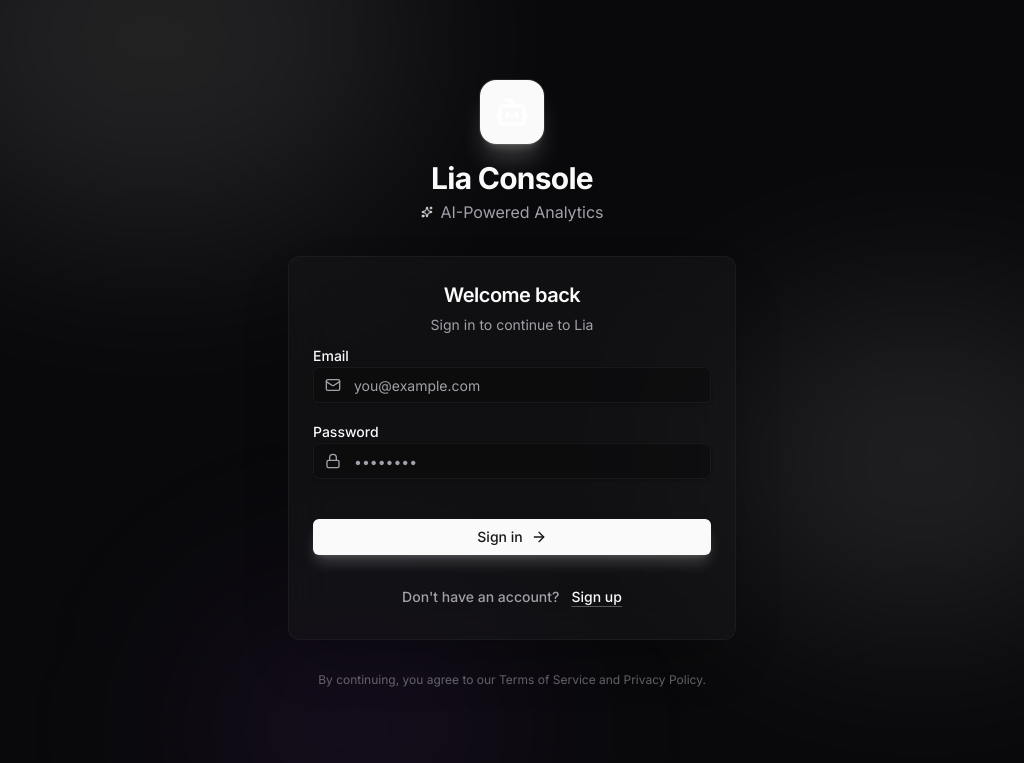
Scenario: AuthPage › Register Form Submission › validates password length - too short
Click the button "Don't have an account? Sign up" at (512, 597), box [386,579,638,615]
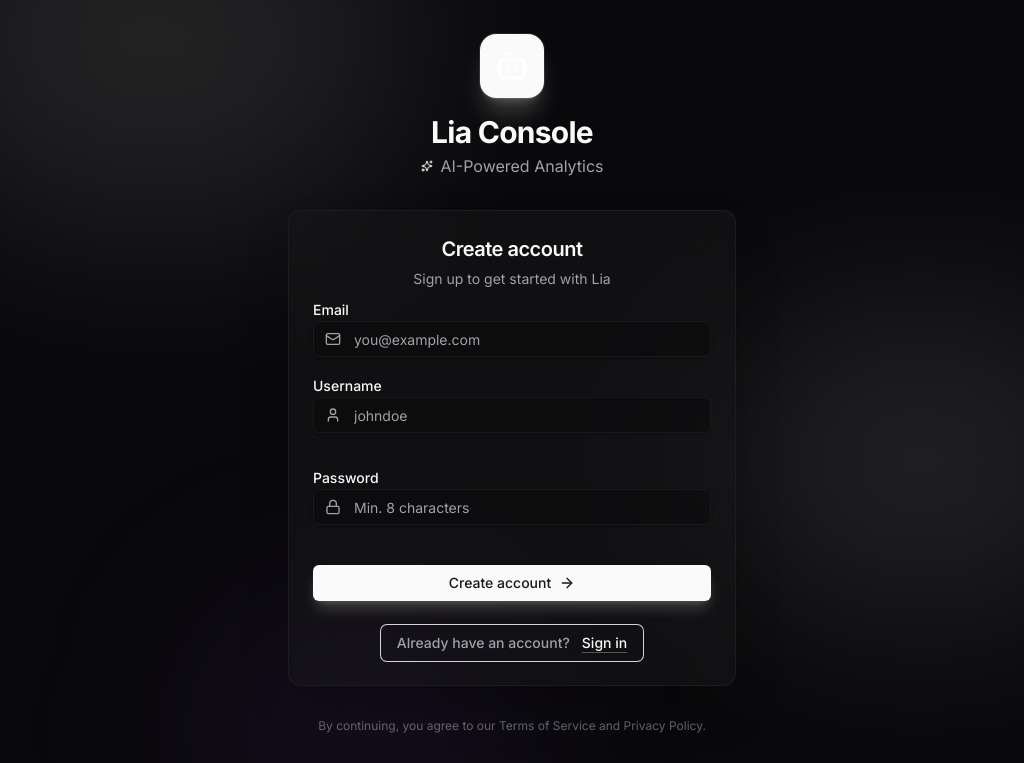
Type "new@example.com" into the field labelled "Email" at (512, 339), box [313,321,711,357]
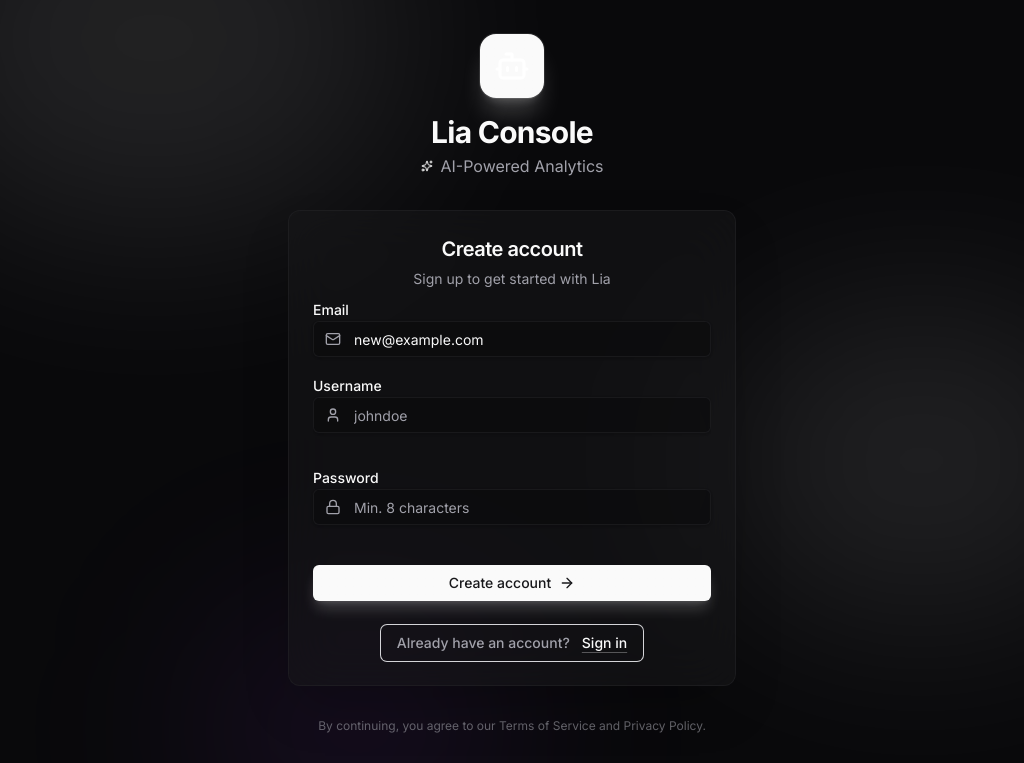
Type "newuser" into the field labelled "Username" at (512, 415), box [313,397,711,433]
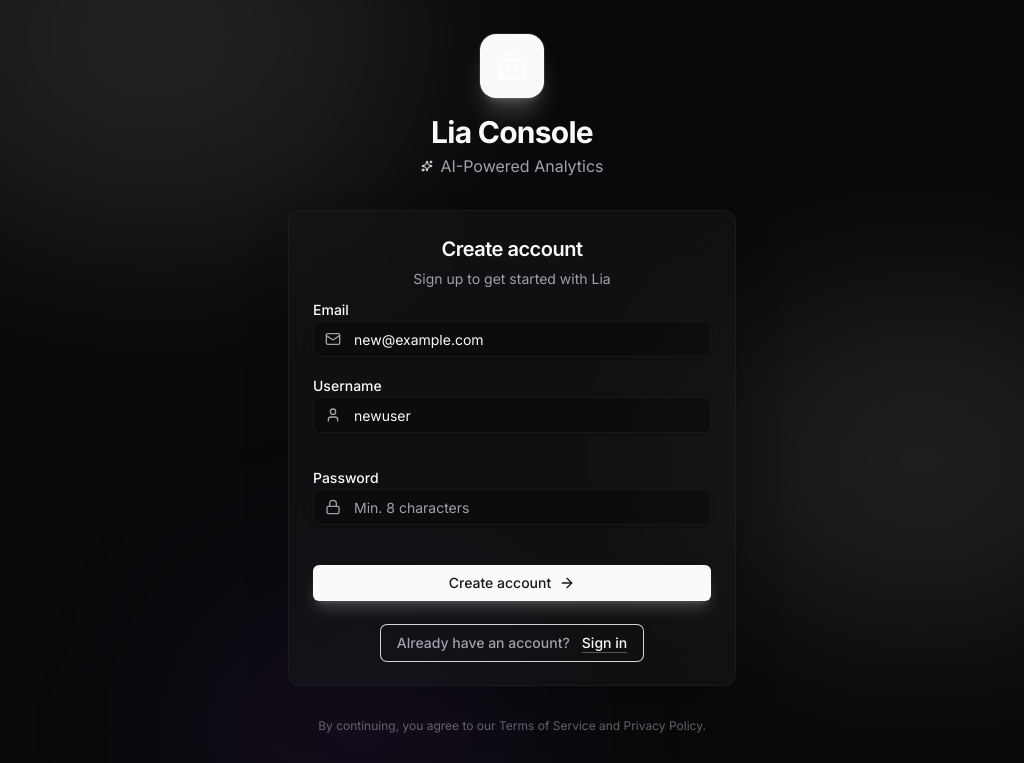
Type "short" into the password field labelled "Password" at (512, 507), box [313,489,711,525]
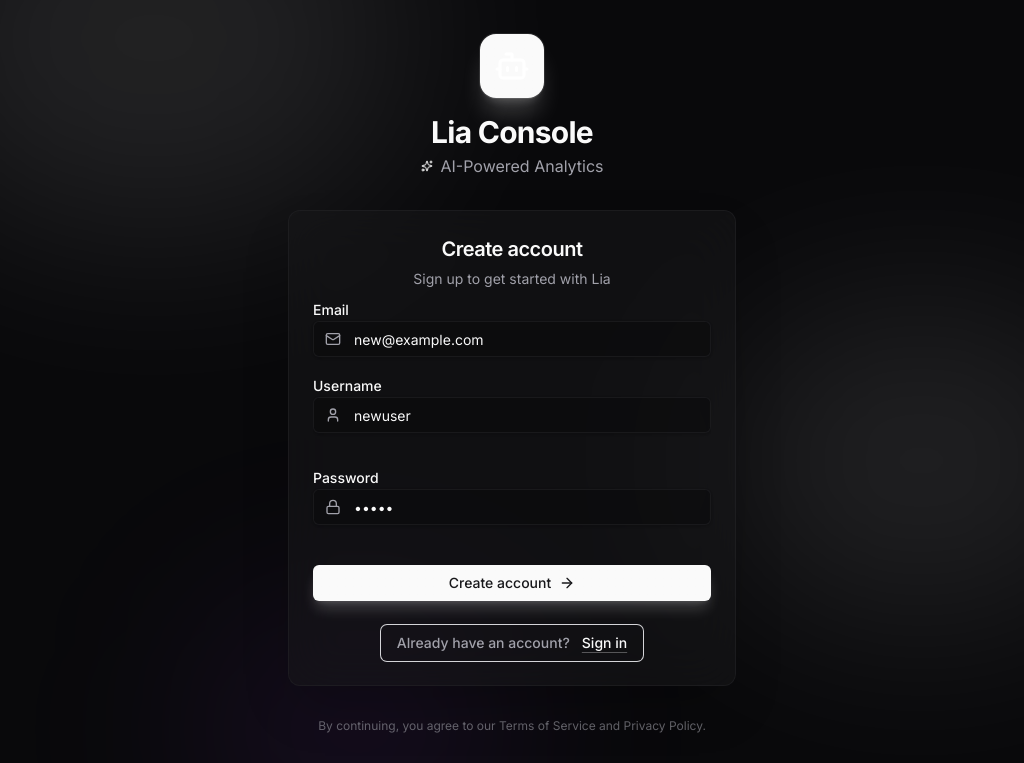
Click the button "Create account" at (512, 583), box [313,565,711,601]
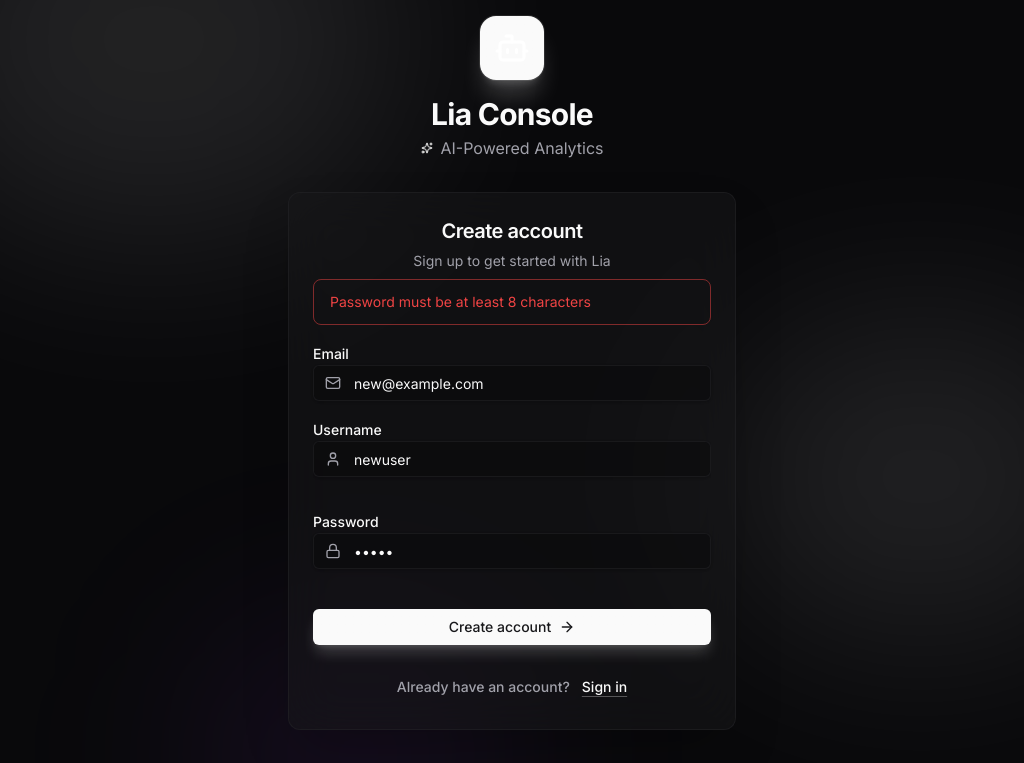
Expected: the text "Password must be at least 8 characters" is shown, [330,293,591,310]
